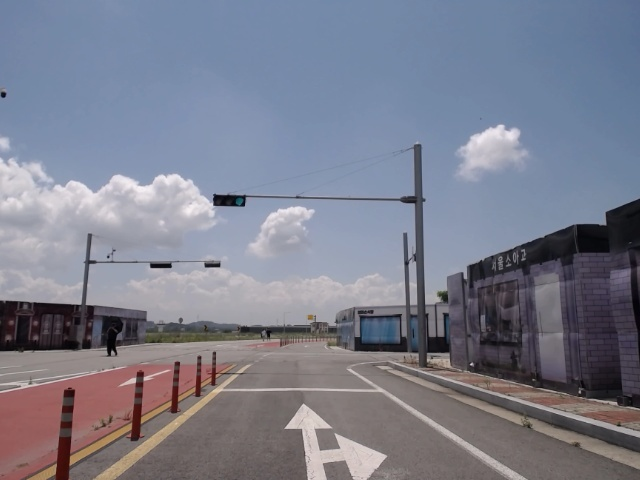green_3: (214, 195, 247, 207)
